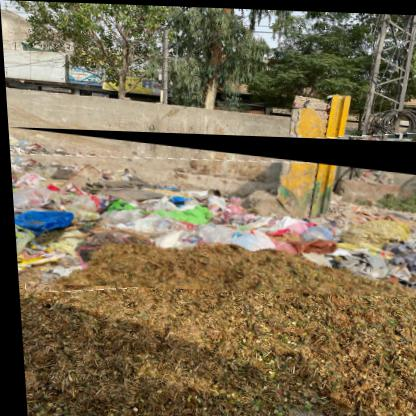Garbage: (7, 128, 416, 298)
